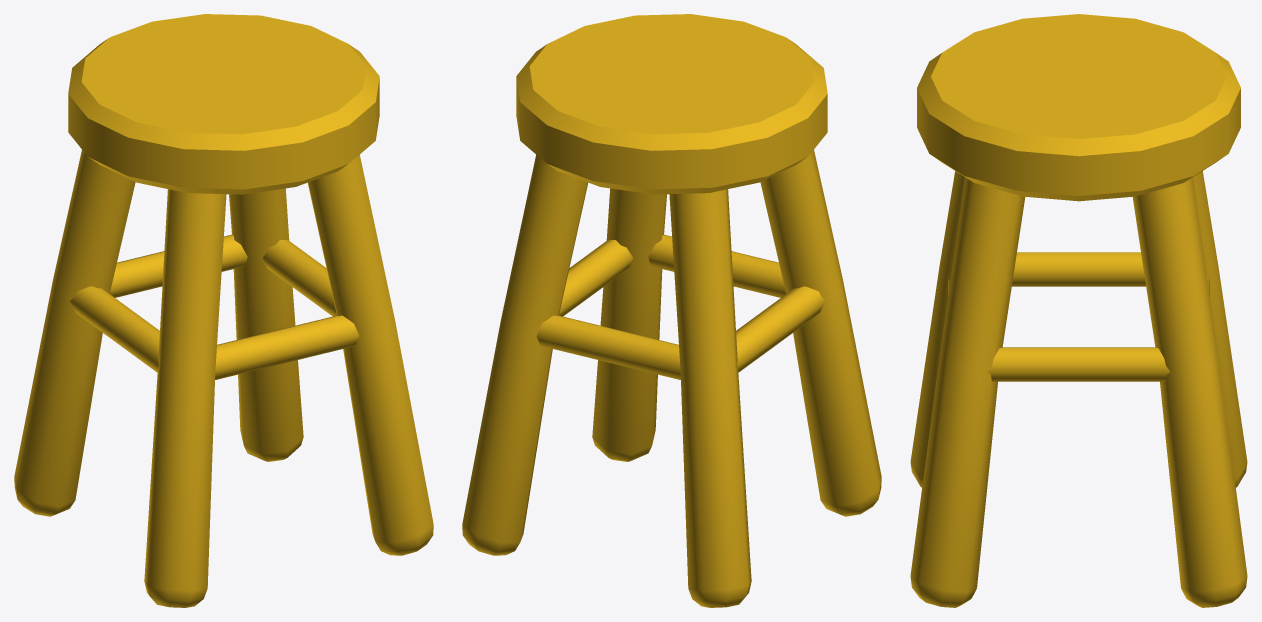
File: CTS_E_CabinChairB.fbx
3 renders of one model, left to right at view 1: azimuth 30°, elevation 25°; view 2: azimuth 150°, elevation 25°; view 3: azimuth 270°, elevation 25°, orthographic. The views are drawn at different scales.
Visible parts, largest first — view 1: CTS_E_CabinChairB; view 2: CTS_E_CabinChairB; view 3: CTS_E_CabinChairB.
Part boxes in pixels (x1=…): CTS_E_CabinChairB: x1=14, y1=14, x2=433, y2=607; CTS_E_CabinChairB: x1=462, y1=14, x2=881, y2=607; CTS_E_CabinChairB: x1=910, y1=14, x2=1247, y2=607.
Size of the model in its own units: 38.43 by 59.34 by 38.44.
